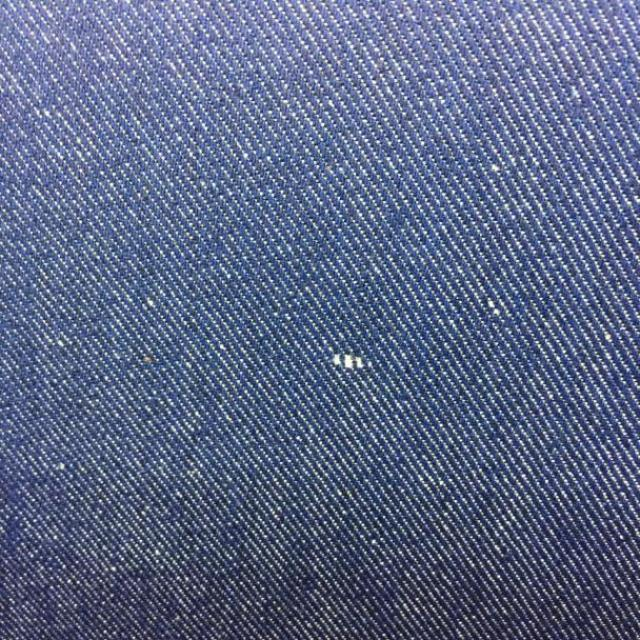Knot: (332, 355, 371, 370)
